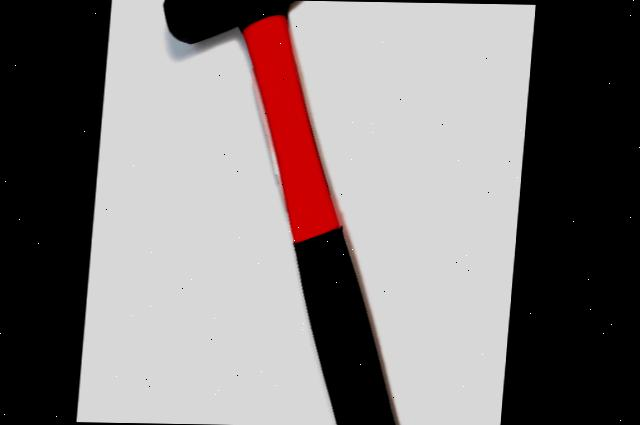hammer: (127, 0, 470, 425)
